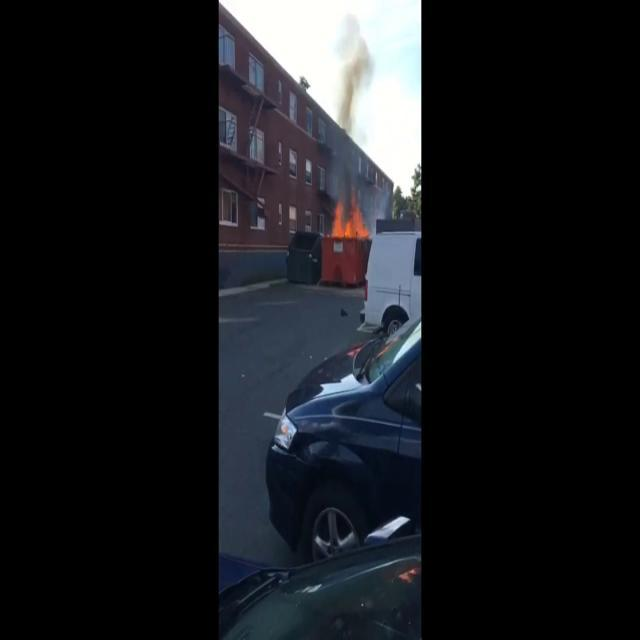Fire: (330, 190, 370, 243)
Smoke: (328, 3, 376, 202)
